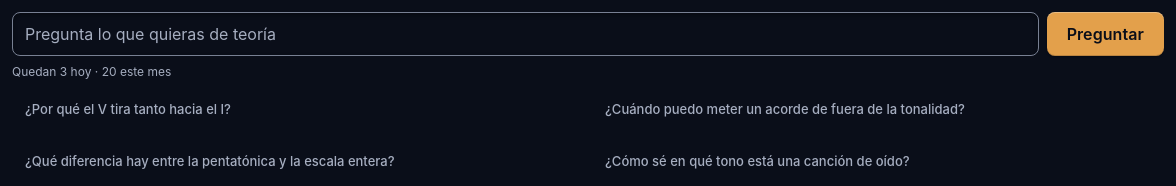
Test: cuando no sale › sin red tampoco se queda callado
The width and height of the screenshot is (1176, 186).
Type "¿Por qué el V tira al i?" into the field with placeholder "Pregunta lo que quieras de teoría" at (525, 34), box [12,12,1039,56]
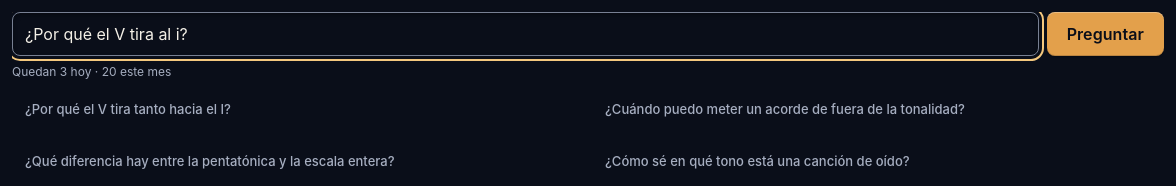
Click the button "Preguntar" at (1105, 34), box [1047,12,1164,56]
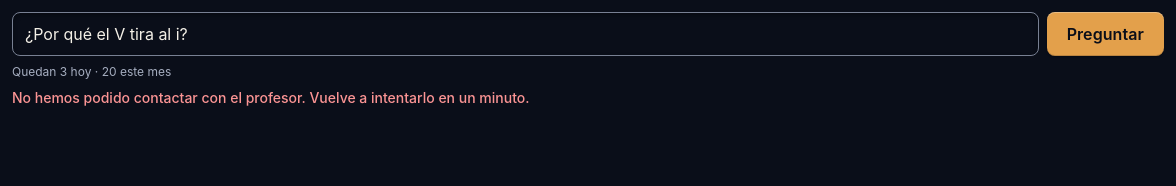
Expected: the message "No hemos podido contactar con el profesor. Vuelve a intentarlo en un minuto." is shown, [12,89,530,106]
